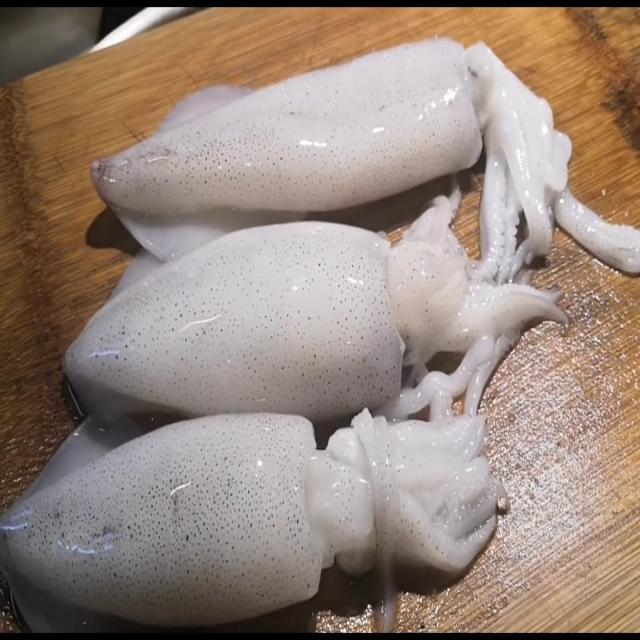SQUID: (71, 25, 640, 280), (0, 393, 538, 640), (16, 203, 572, 442)
